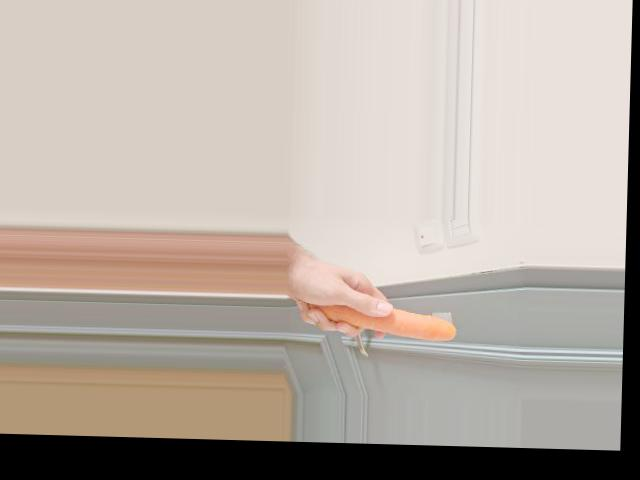carrot: (305, 297, 456, 340)
